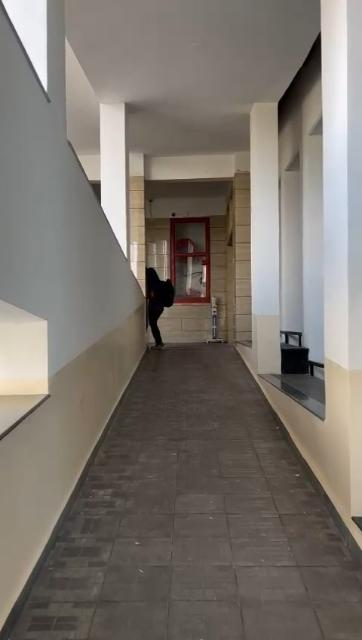floor: (5, 344, 362, 640)
moving-obj: (149, 256, 181, 344)
wall: (0, 0, 149, 631), (329, 0, 362, 506), (100, 107, 146, 355), (250, 100, 282, 378), (212, 219, 228, 295), (173, 307, 205, 339), (147, 220, 167, 262)
